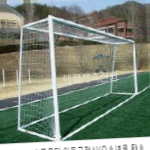goals: (17, 13, 140, 142)
